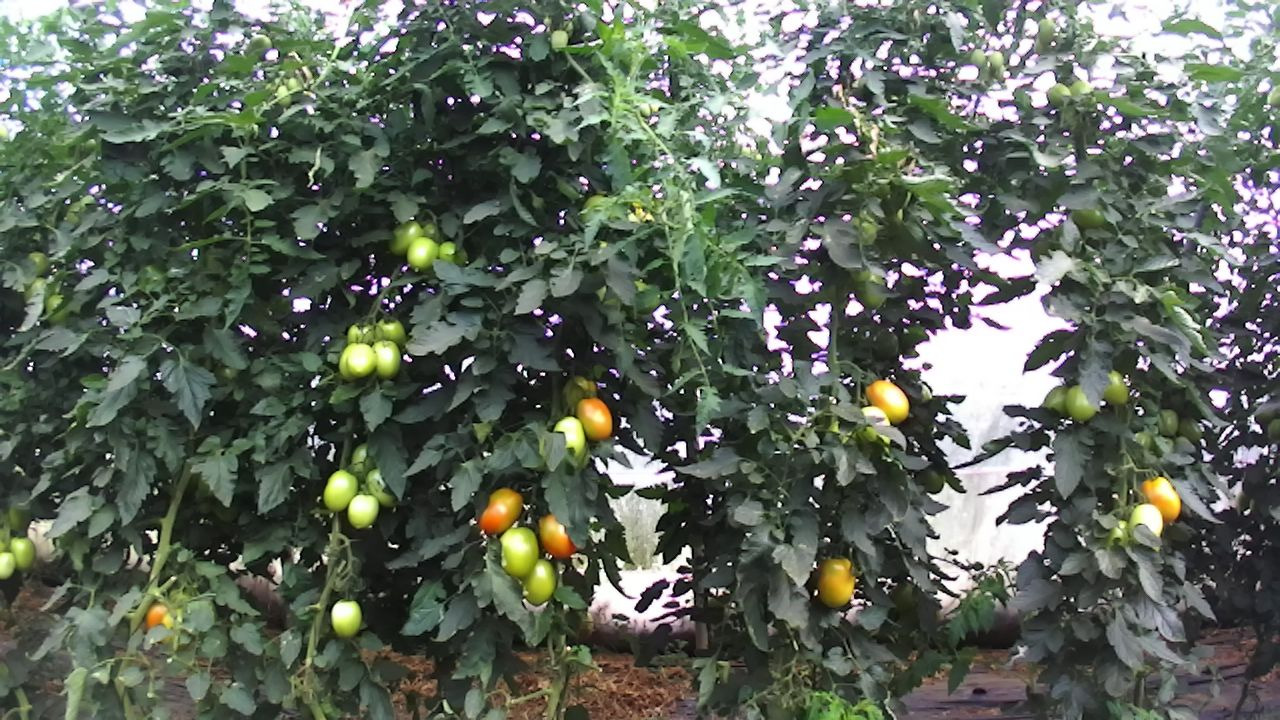tomato: (472, 484, 526, 538), (496, 524, 541, 580), (814, 554, 858, 611), (864, 376, 911, 426), (1137, 474, 1183, 524), (536, 509, 577, 560), (574, 394, 614, 444), (521, 555, 560, 605), (321, 466, 361, 514), (551, 412, 590, 457), (344, 490, 381, 532), (1127, 496, 1166, 535), (1063, 382, 1099, 424), (329, 597, 363, 641), (387, 219, 424, 257), (405, 234, 440, 273), (371, 338, 402, 381), (370, 313, 409, 346), (345, 341, 378, 379), (1100, 367, 1130, 408), (435, 236, 471, 268), (7, 536, 37, 572), (344, 319, 377, 348), (1176, 414, 1203, 445), (1156, 405, 1180, 439), (919, 466, 944, 494), (0, 550, 17, 582)
